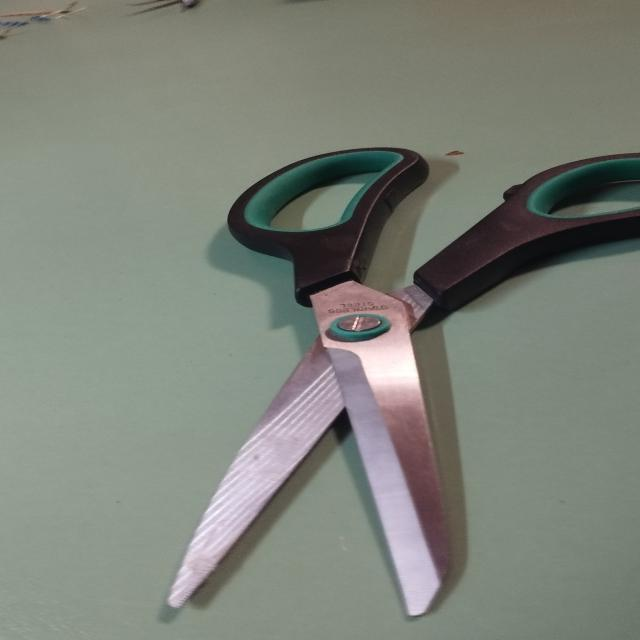tesoura: (147, 139, 640, 624)
